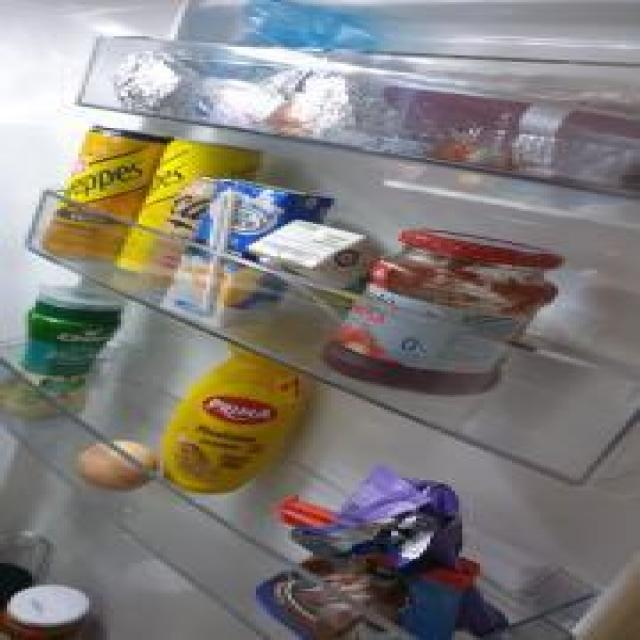egg: (76, 437, 162, 493)
marmelade: (325, 232, 578, 399)
